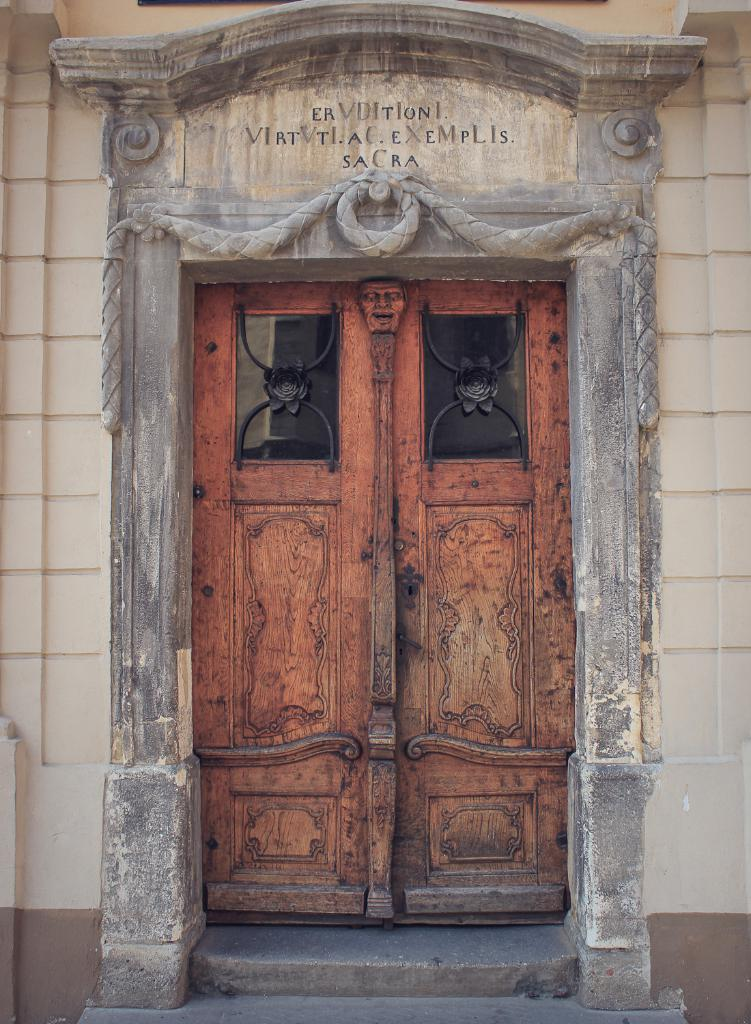door: (200, 286, 372, 912), (400, 300, 571, 917)
handle: (396, 620, 425, 668)
